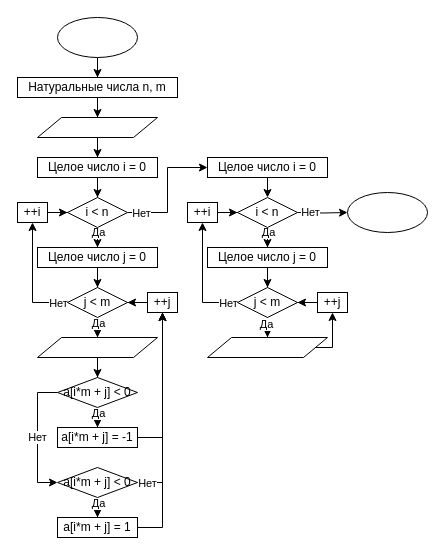
The diagram is 445 pixels wide and 555 high, and some of its shapes have lost their labels. Here are the shapes that lost their labels. From the top down, the centre of each, then its label:
At (x=97, y=37): "Начало".
At (x=97, y=127): "Ввод n, m".
At (x=387, y=212): "Конец".
At (x=97, y=347): "Ввод a[i*m + j]".
At (x=267, y=347): "Вывод a[i*m + j]".
